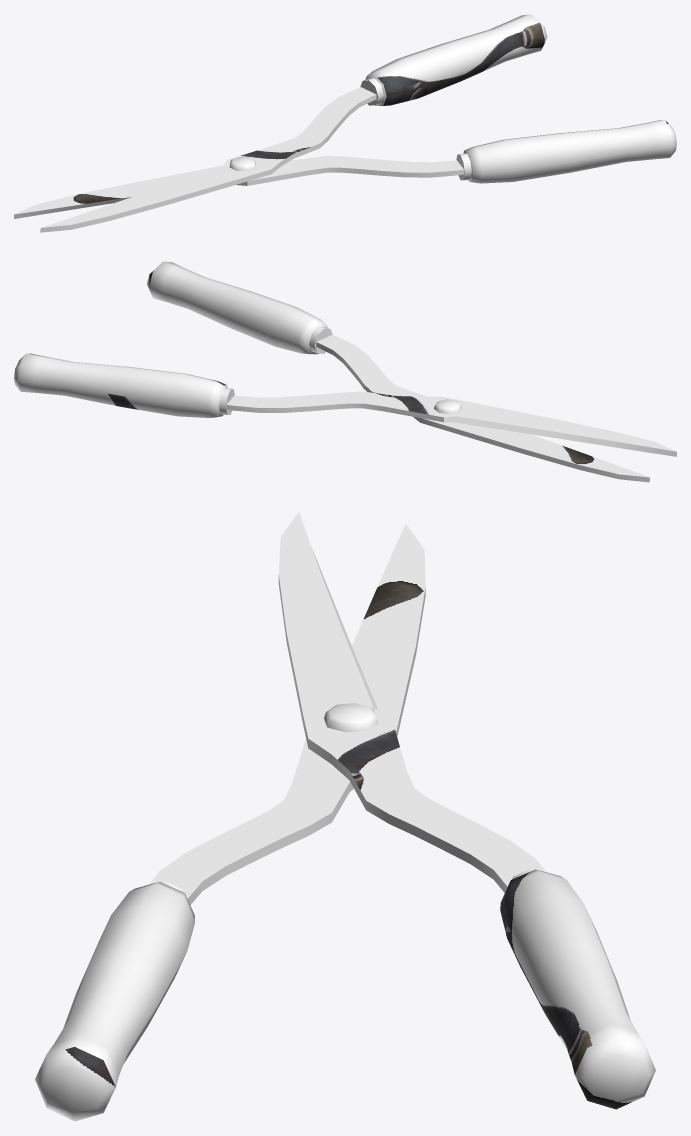
The model's file is GardenSheat_(Quest).fbx.
The picture shows the model from 3 angles, top to bottom: view 1: azimuth 30°, elevation 25°; view 2: azimuth 150°, elevation 25°; view 3: azimuth 270°, elevation 25°; orthographic projection. The views are drawn at different scales.
Visible parts, largest first — view 1: Cylinder.027; view 2: Cylinder.027; view 3: Cylinder.027.
Boxes of the visible parts, bbox=[...] form: Cylinder.027: bbox=[14, 14, 676, 232]; Cylinder.027: bbox=[14, 261, 676, 482]; Cylinder.027: bbox=[35, 511, 655, 1121].
Size of the model in its own units: 442 by 35.14 by 206.
